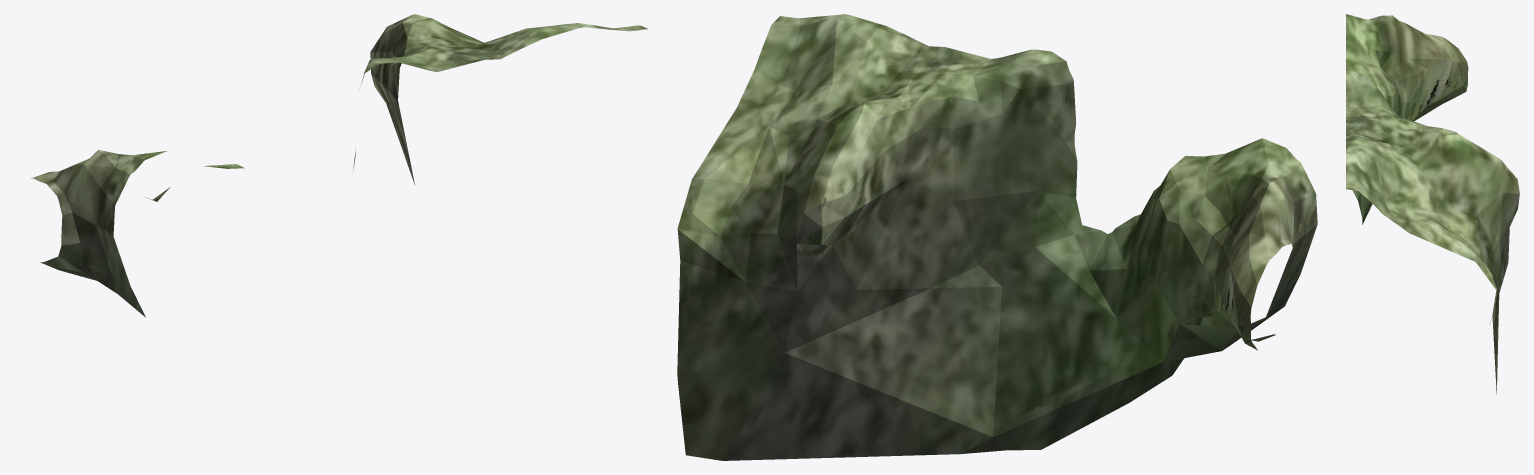
The picture shows the model from 3 angles, left to right: view 1: azimuth 30°, elevation 25°; view 2: azimuth 150°, elevation 25°; view 3: azimuth 270°, elevation 25°; orthographic projection. The views are drawn at different scales.
Size of the model in its own units: 2.95 by 2.04 by 1.09.
Materials: 2 (2 with a texture image).
